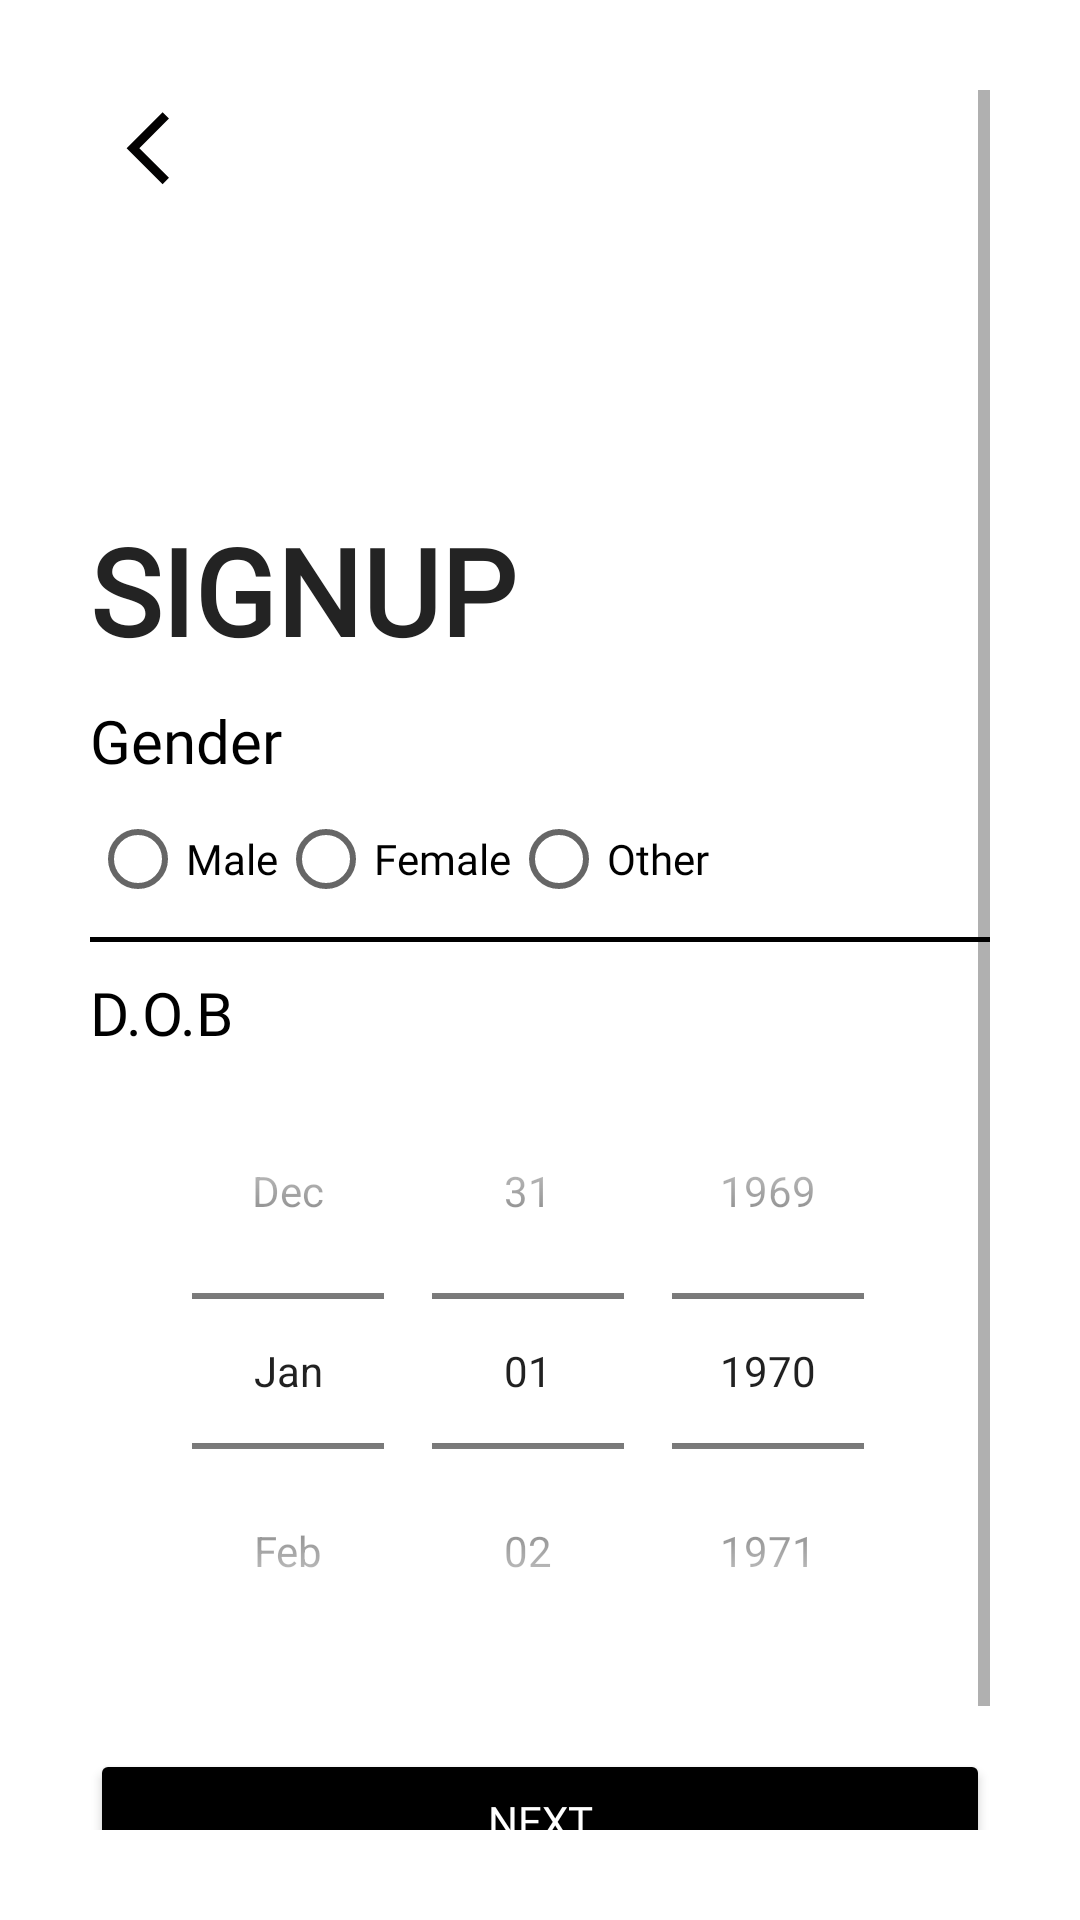

Named icons in this screenshot (1080×1920) and their centers, (x=x, y=y):
arrow back: (x=147, y=148)
